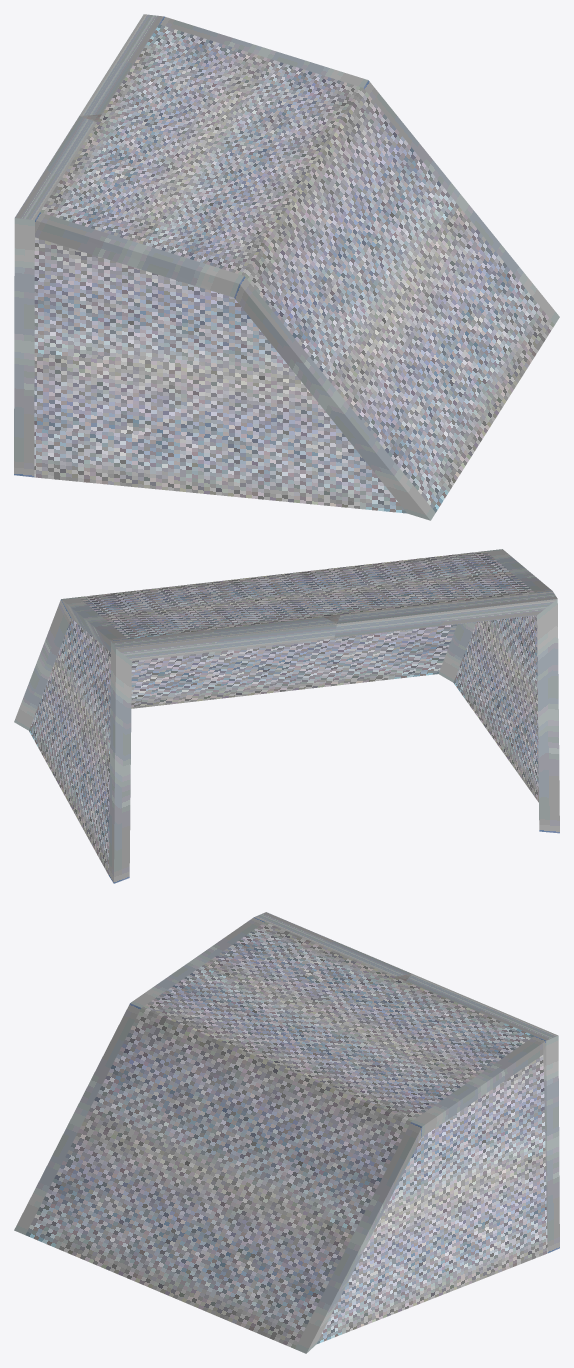
Rendered from netbar.glb.
3 renders of one model, top to bottom at view 1: azimuth 30°, elevation 25°; view 2: azimuth 150°, elevation 25°; view 3: azimuth 270°, elevation 25°, orthographic. The views are drawn at different scales.
Visible parts, largest first — view 1: netbar; view 2: netbar; view 3: netbar.
Boxes of the visible parts, <box> form: netbar: <box>14,14,559,520</box>; netbar: <box>14,549,559,883</box>; netbar: <box>14,912,559,1353</box>.
Size of the model in its own units: 804 by 345 by 804.
Materials: 2 (2 with a texture image).
